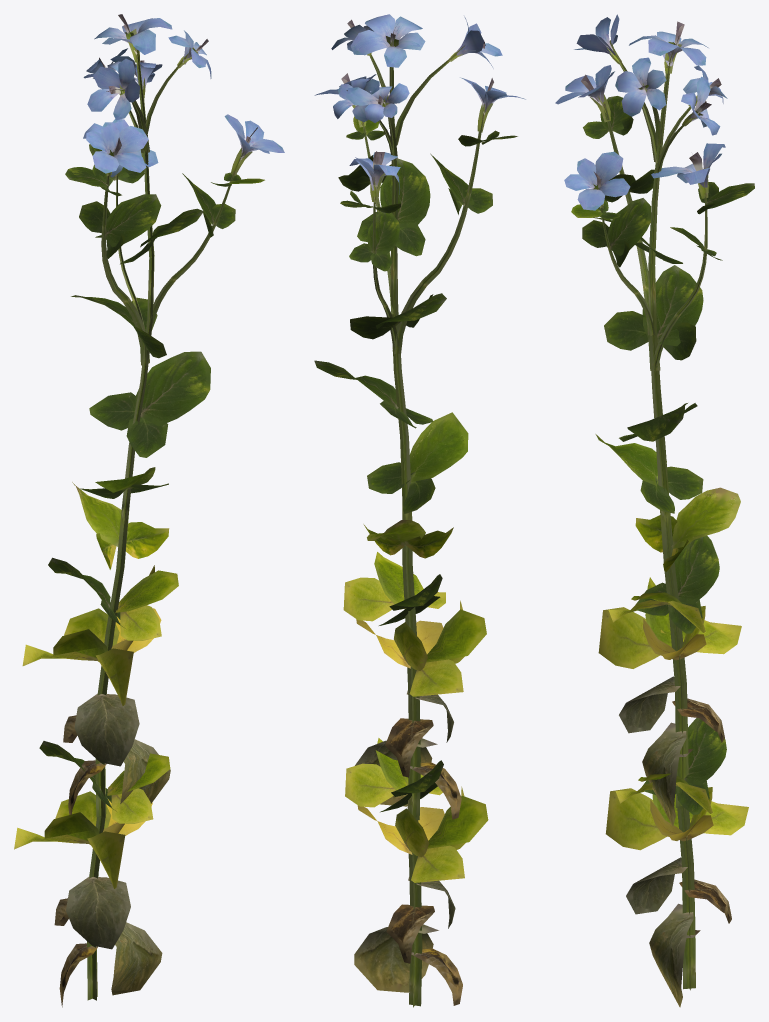
Rendered from Periwinkle_bush_long_lightblue.glb.
3 views of the same model, side by side, from view 1: azimuth 30°, elevation 25°; view 2: azimuth 150°, elevation 25°; view 3: azimuth 270°, elevation 25° (orthographic).
Parts seen in each view (by area): view 1: _b868_Var1_LOD1.2; view 2: _b868_Var1_LOD1.2; view 3: _b868_Var1_LOD1.2.
Boxes of the visible parts, x1=… form: _b868_Var1_LOD1.2: x1=14, y1=14, x2=284, y2=1007; _b868_Var1_LOD1.2: x1=314, y1=14, x2=525, y2=1007; _b868_Var1_LOD1.2: x1=555, y1=14, x2=754, y2=1007.
Bounding box in the file's own units: 0.7607 × 3.45 × 0.6398.
Materials: 1 (1 with a texture image).
